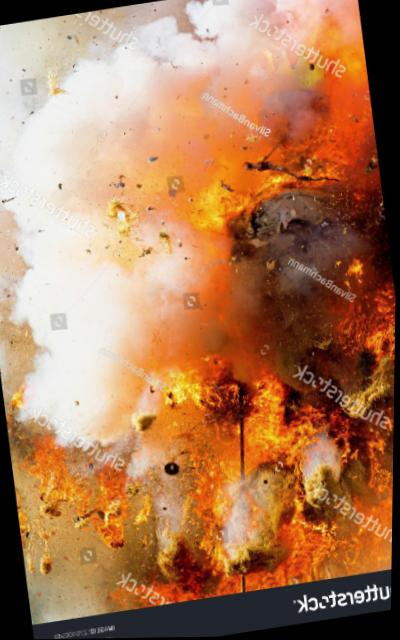fire: (322, 71, 378, 169), (242, 377, 291, 465), (193, 178, 260, 236), (186, 448, 232, 532), (374, 286, 396, 449), (282, 518, 338, 582), (94, 469, 136, 552), (199, 361, 247, 432), (264, 154, 338, 192), (342, 298, 385, 359), (40, 469, 95, 514), (337, 531, 385, 575), (281, 413, 322, 457), (166, 366, 208, 408), (217, 432, 247, 489), (30, 436, 70, 478), (203, 527, 232, 576), (370, 456, 394, 509), (162, 577, 207, 603), (365, 424, 392, 460), (337, 255, 369, 285), (246, 568, 288, 590), (131, 492, 155, 527), (8, 383, 29, 411), (216, 575, 244, 594)
